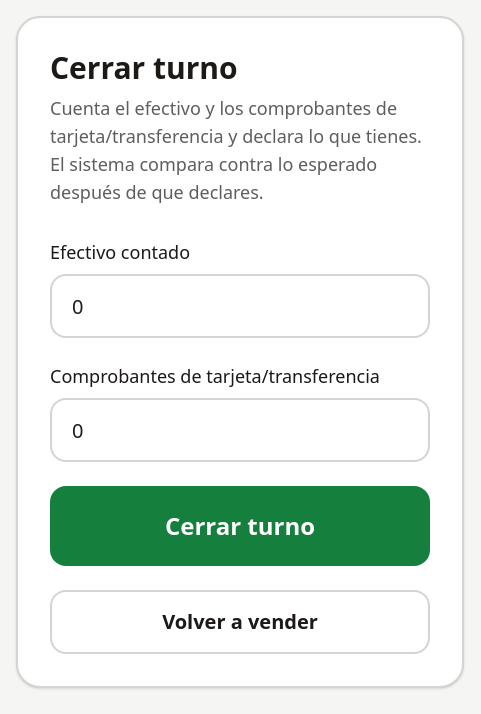
Test: CloseShiftScreen › muestra "Sobrante" cuando lo contado es mayor a lo esperado
Replace the text in the number field labelled "Efectivo contado" with "520" at (240,306), box [50, 274, 430, 338]
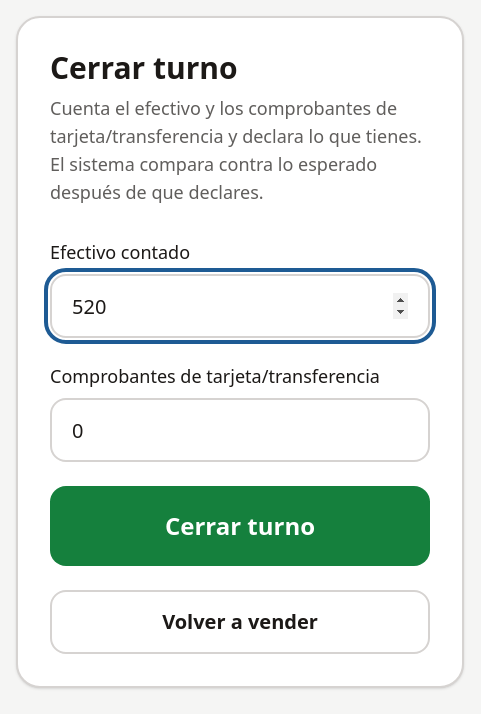
Click the button "Cerrar turno" at (240,526), box [50, 486, 430, 566]
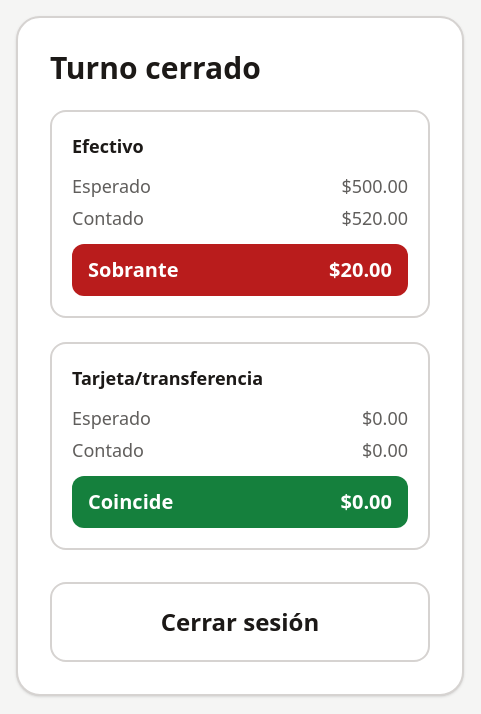
Result: the text "Sobrante" is shown at [88, 256, 178, 284]
